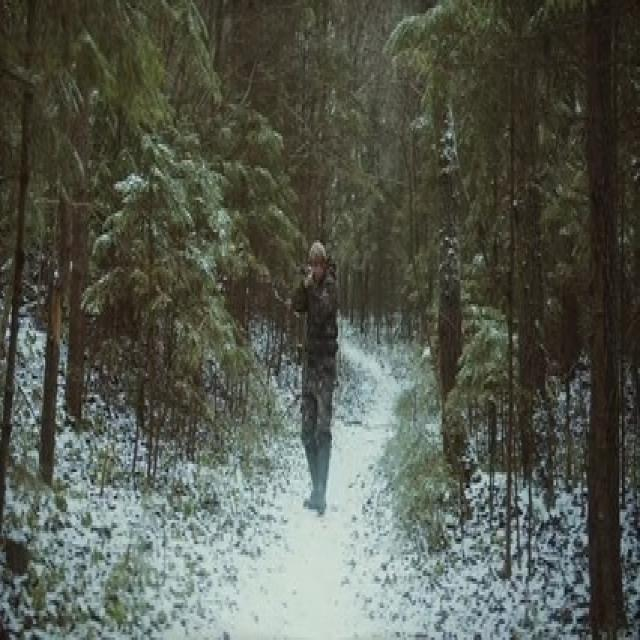Gun_Holder: (292, 264, 318, 289)
Person: (299, 234, 341, 513)
